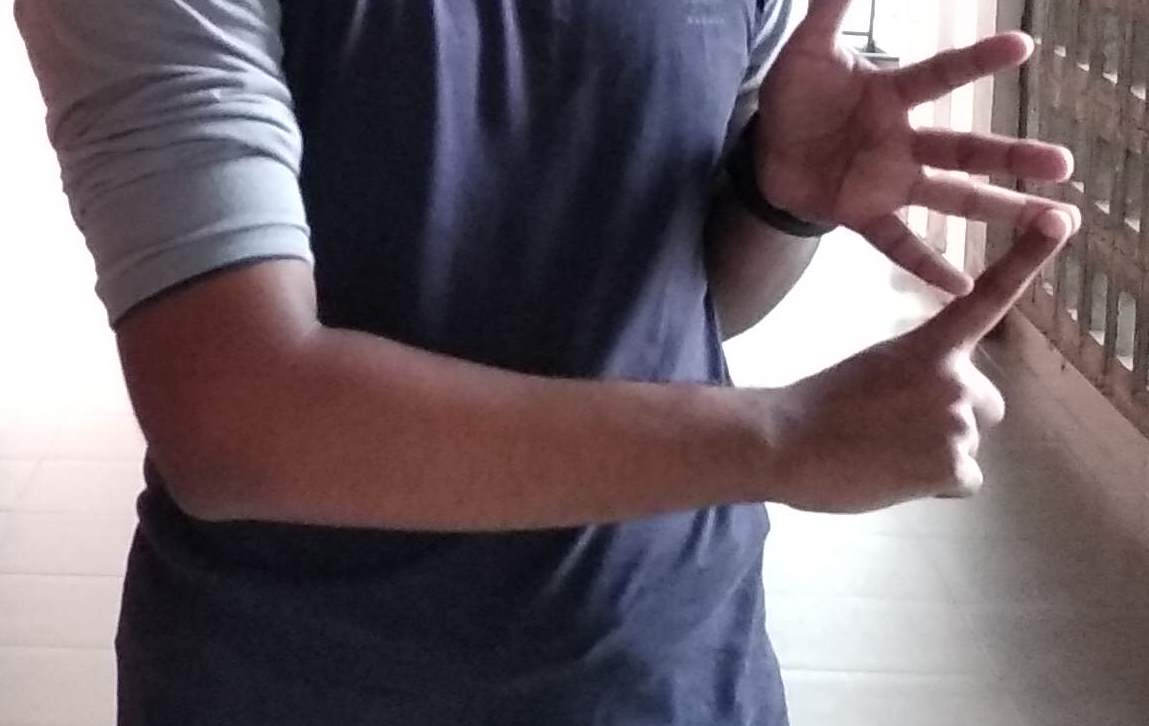e: (828, 54, 1098, 493)
